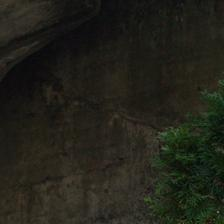Crack: (19, 34, 143, 100)
